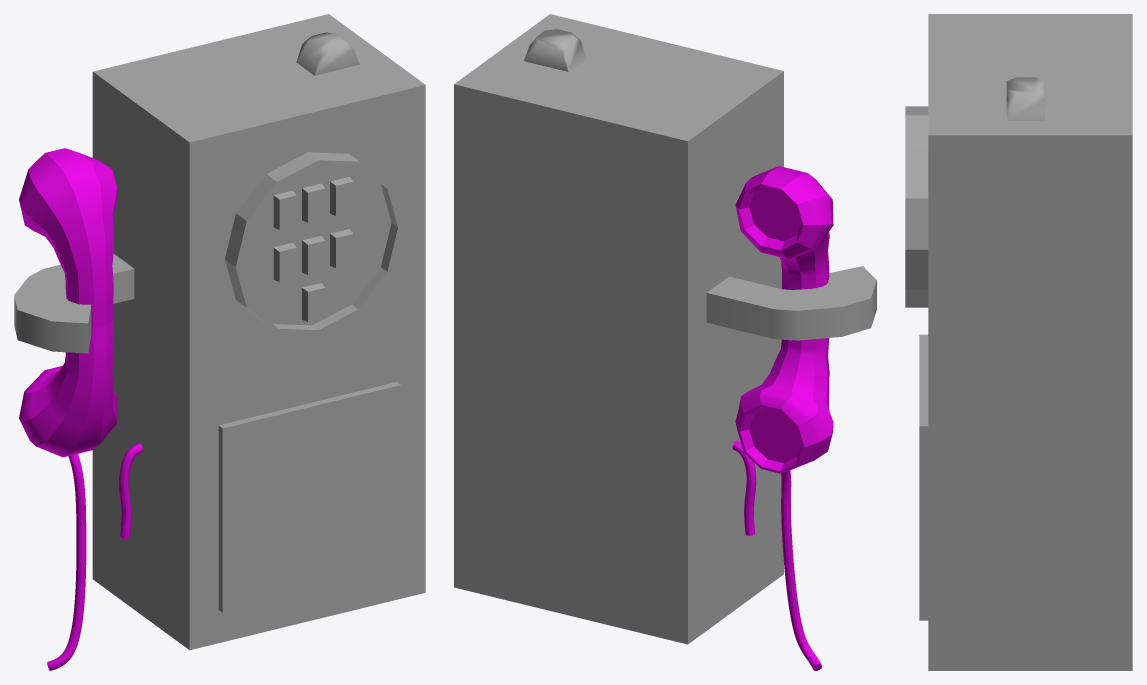
The model's file is TelefoneVar2.fbx.
The picture shows the model from 3 angles, left to right: view 1: azimuth 30°, elevation 25°; view 2: azimuth 150°, elevation 25°; view 3: azimuth 270°, elevation 25°; orthographic projection. The views are drawn at different scales.
Parts seen in each view (by area): view 1: Linha5; view 2: Linha5; view 3: Linha5.
Part boxes in pixels (x1,y1,x2,y2): Linha5: [14, 14, 425, 670]; Linha5: [454, 14, 876, 670]; Linha5: [905, 14, 1132, 670].
Size of the model in its own units: 0.7952 by 1.18 by 0.4053.
